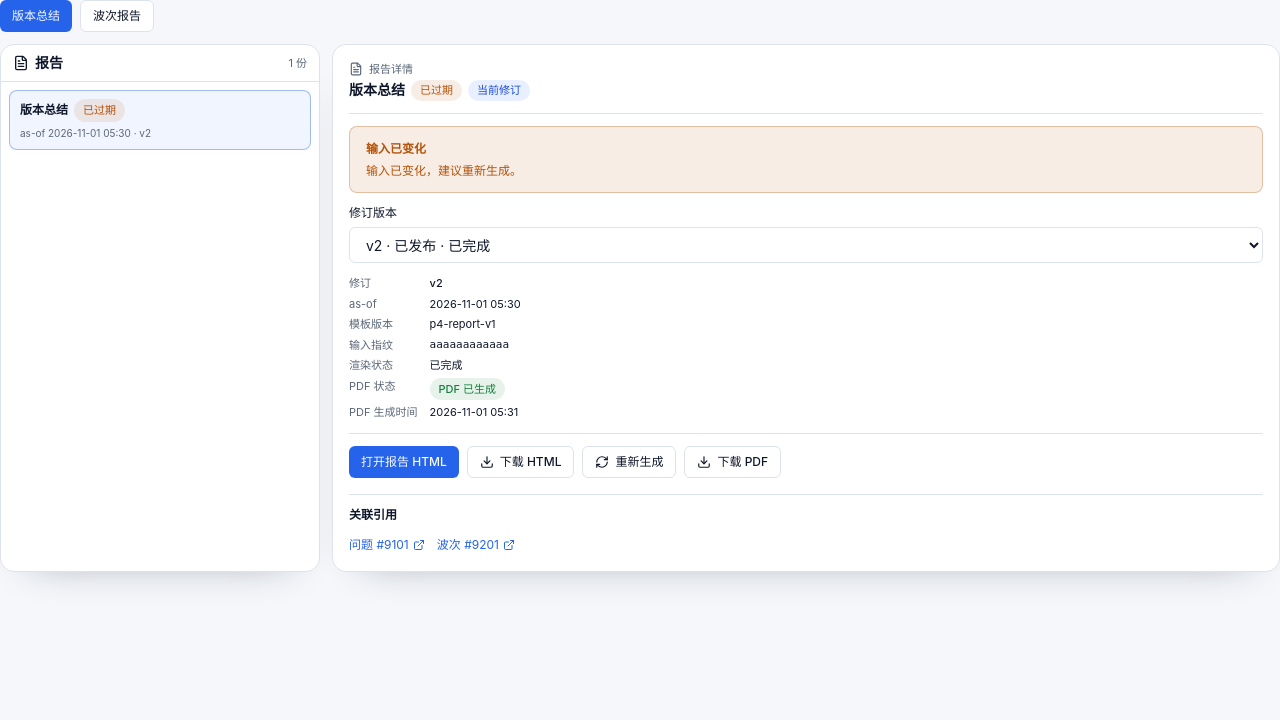
Scenario: ReportsTab › regenerates with a reason, disables duplicate submission and refreshes
The image size is (1280, 720).
Expected: the button with test id "report-8101" is shown, x1=9 y1=90 x2=311 y2=150
Click the button "重新生成": x=629, y=462 x1=582 y1=446 x2=676 y2=478
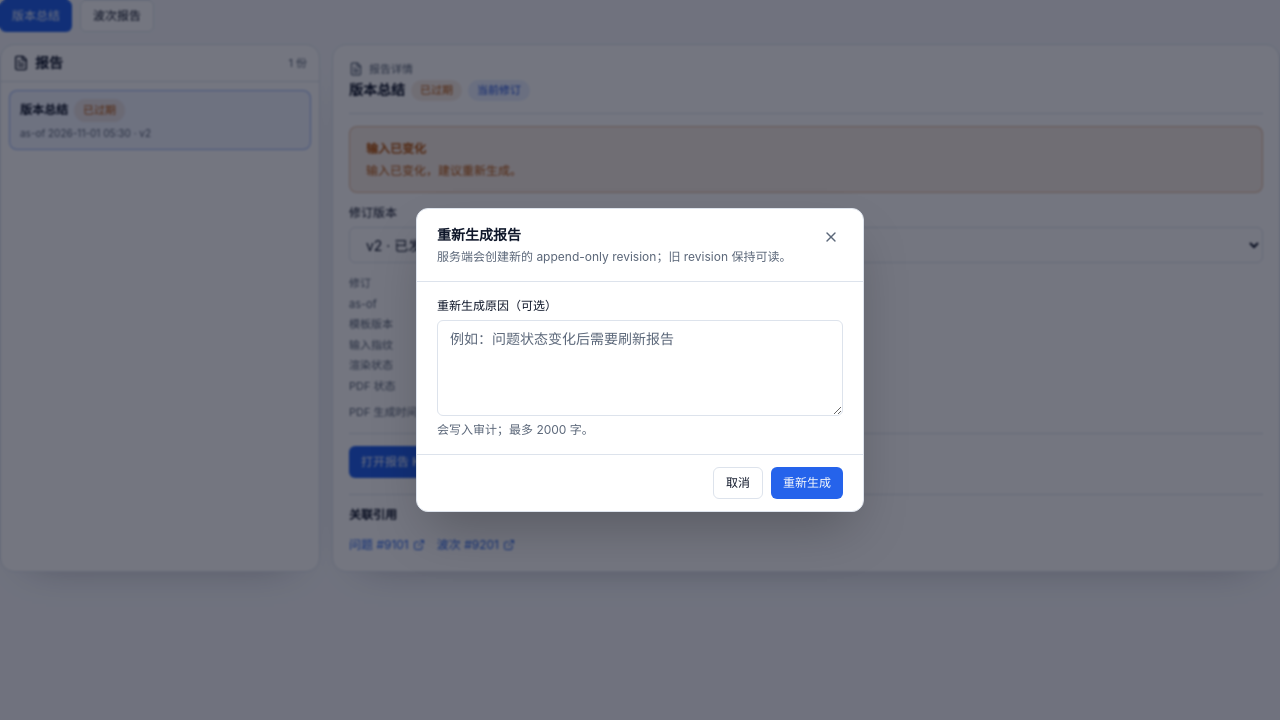
In the text box labelled "重新生成原因（可选）": x=640, y=368 x1=437 y1=320 x2=843 y2=416, type "补充失败用例"
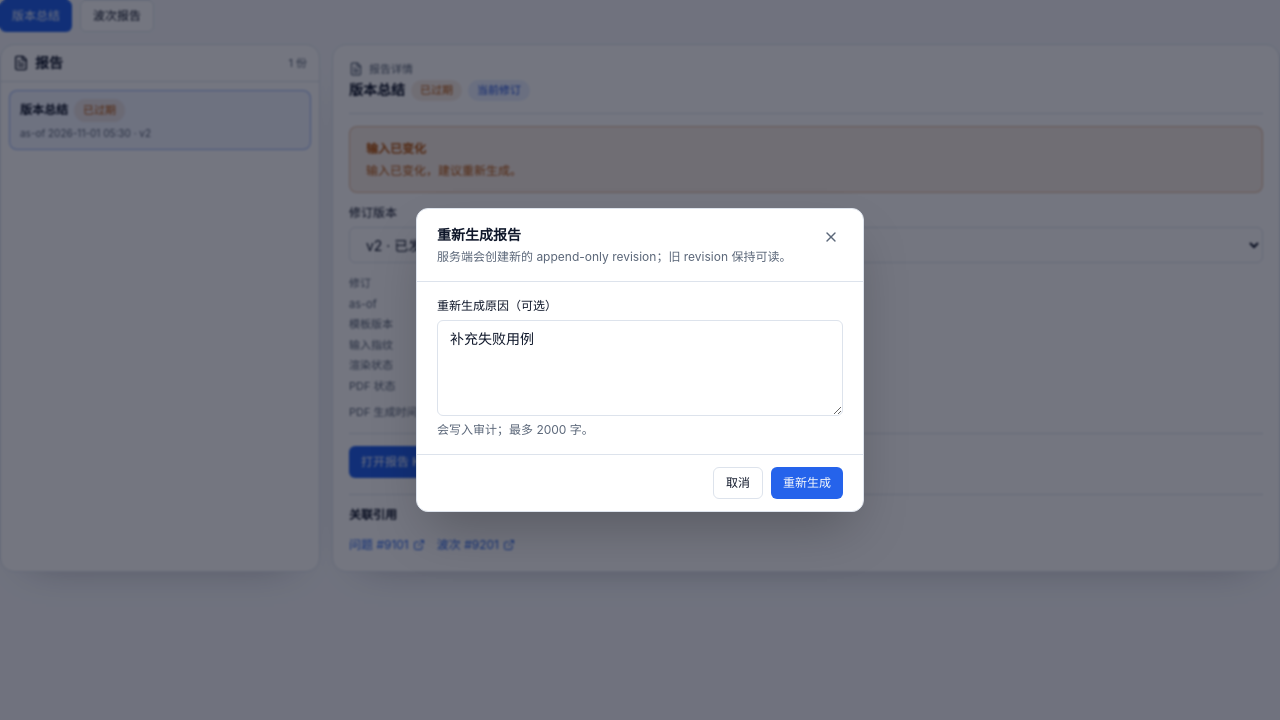
Click the button "重新生成": x=807, y=483 x1=771 y1=467 x2=843 y2=499
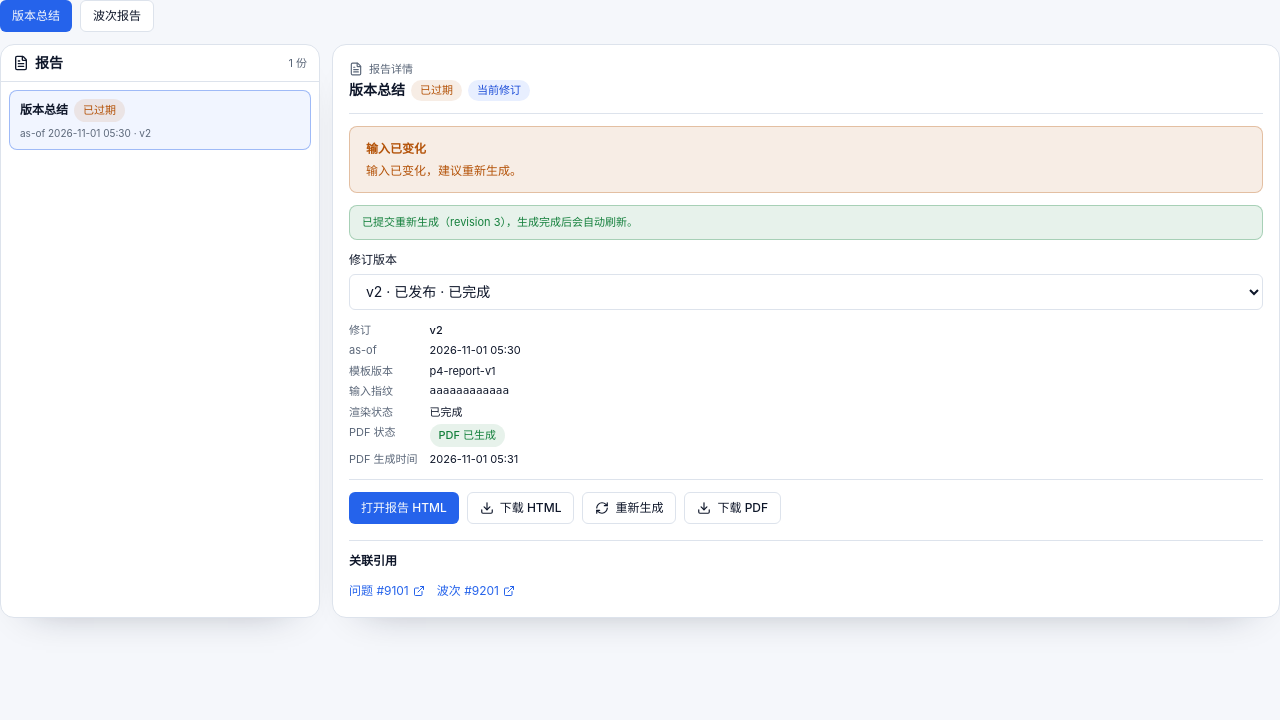
Now the heading "重新生成报告" is gone
Now the text "已提交重新生成（revision 3），生成完成后会自动刷新。" is shown, box x1=349 y1=205 x2=1263 y2=240
